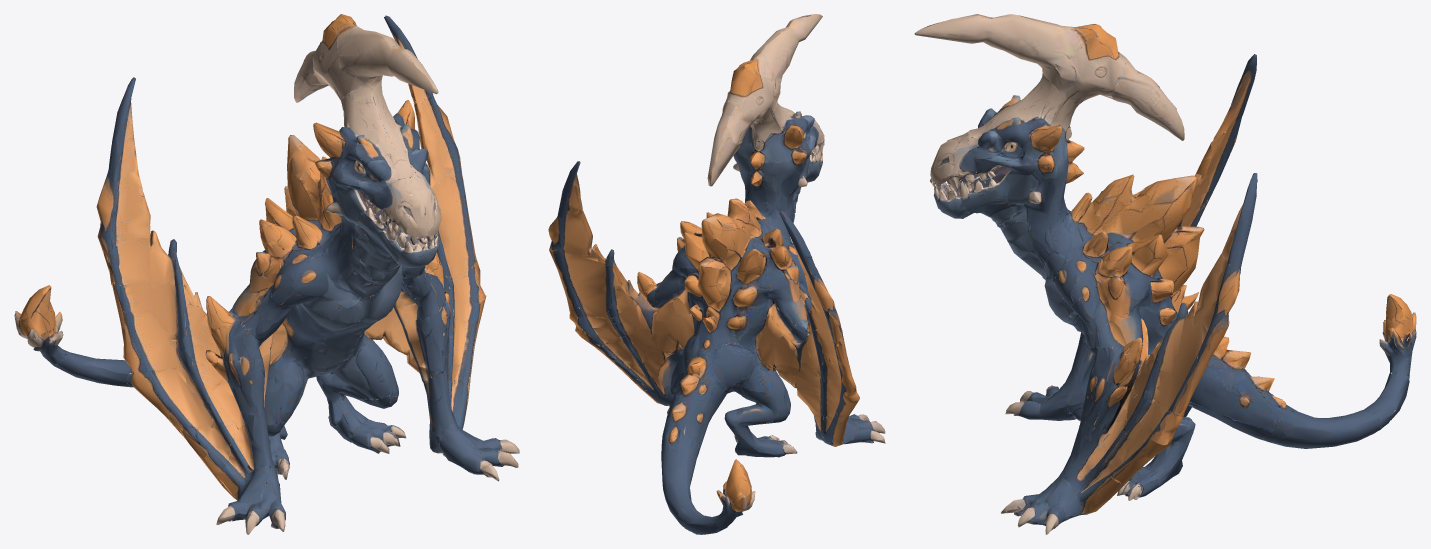
3 renders of one model, left to right at view 1: azimuth 30°, elevation 25°; view 2: azimuth 150°, elevation 25°; view 3: azimuth 270°, elevation 25°, orthographic. The views are drawn at different scales.
Visible parts, largest first — view 1: Mesh_0; view 2: Mesh_0; view 3: Mesh_0.
Boxes of the visible parts, x1,y1,x2,y2 form: Mesh_0: [14, 14, 519, 534]; Mesh_0: [548, 14, 885, 534]; Mesh_0: [914, 14, 1416, 534].
Bounding box in the file's own units: 1.51 × 1.89 × 1.9.
1 material, 1 textured.
